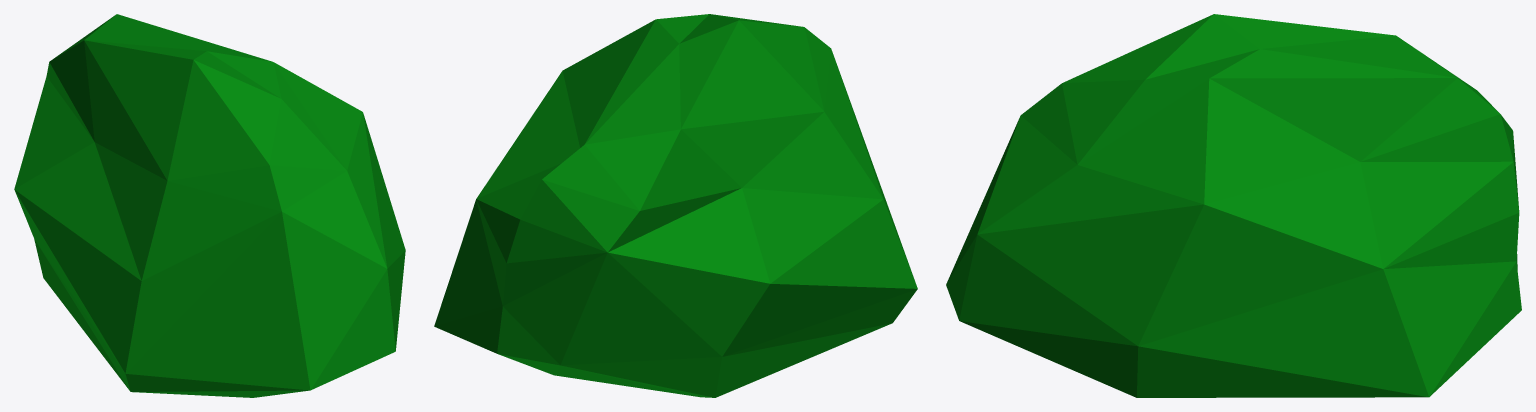
Rendered from SM_SmallBush.fbx.
3 renders of one model, left to right at view 1: azimuth 30°, elevation 25°; view 2: azimuth 150°, elevation 25°; view 3: azimuth 270°, elevation 25°, orthographic. The views are drawn at different scales.
Parts seen in each view (by area): view 1: pCylinder2; view 2: pCylinder2; view 3: pCylinder2.
Part boxes in pixels (x1,y1,x2,y2): pCylinder2: (14, 14, 405, 397); pCylinder2: (434, 14, 917, 397); pCylinder2: (946, 14, 1521, 397).
Bounding box in the file's own units: 224 × 208 × 334.
